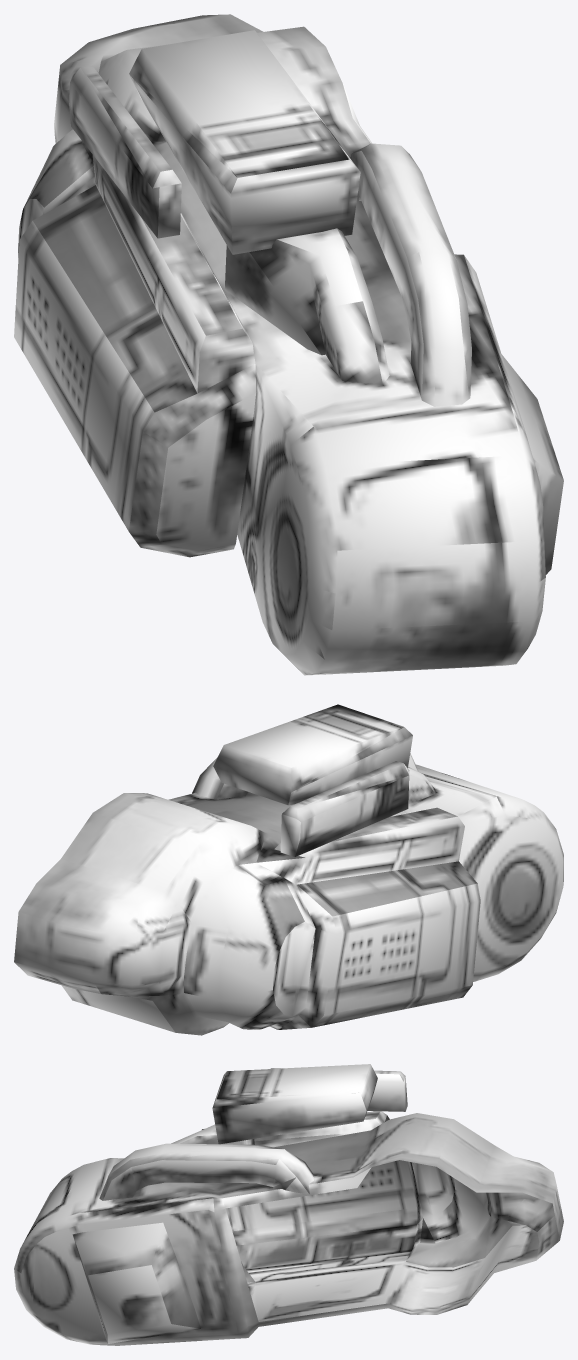
File: fr_thigh.glb
3 views of the same model, one above another, from view 1: azimuth 30°, elevation 25°; view 2: azimuth 150°, elevation 25°; view 3: azimuth 270°, elevation 25° (orthographic). The views are drawn at different scales.
Parts seen in each view (by area): view 1: fr_thigh; view 2: fr_thigh; view 3: fr_thigh.
Boxes of the visible parts, bbox=[...] form: fr_thigh: bbox=[14, 14, 563, 675]; fr_thigh: bbox=[14, 704, 563, 1035]; fr_thigh: bbox=[14, 1064, 563, 1345].
Bounding box in the file's own units: 0.5993 × 0.7 × 1.38.
3 materials, 3 textured.
